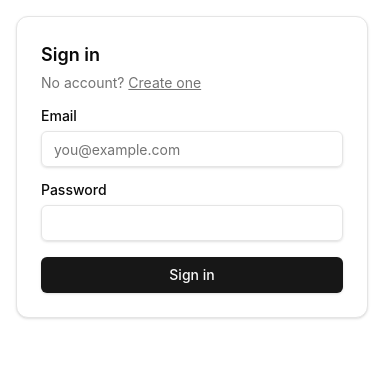
Test: login flow (plan §9) › shows the server message on rejected credentials and stays put
Type "lin@t.io" into the field with id "email" at (192, 149), box x1=41 y1=131 x2=343 y2=167
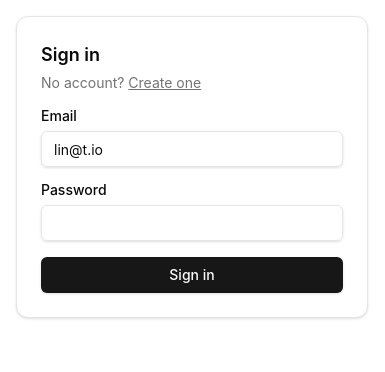
Type "wrong" into the password field labelled "Password" at (192, 223), box x1=41 y1=205 x2=343 y2=241
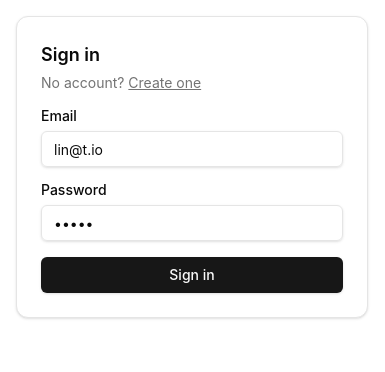
Submit the form, box x1=41 y1=109 x2=343 y2=293
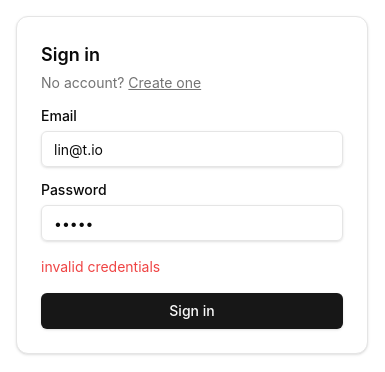
Expected: the message "invalid credentials" is shown, x1=41 y1=258 x2=160 y2=275
